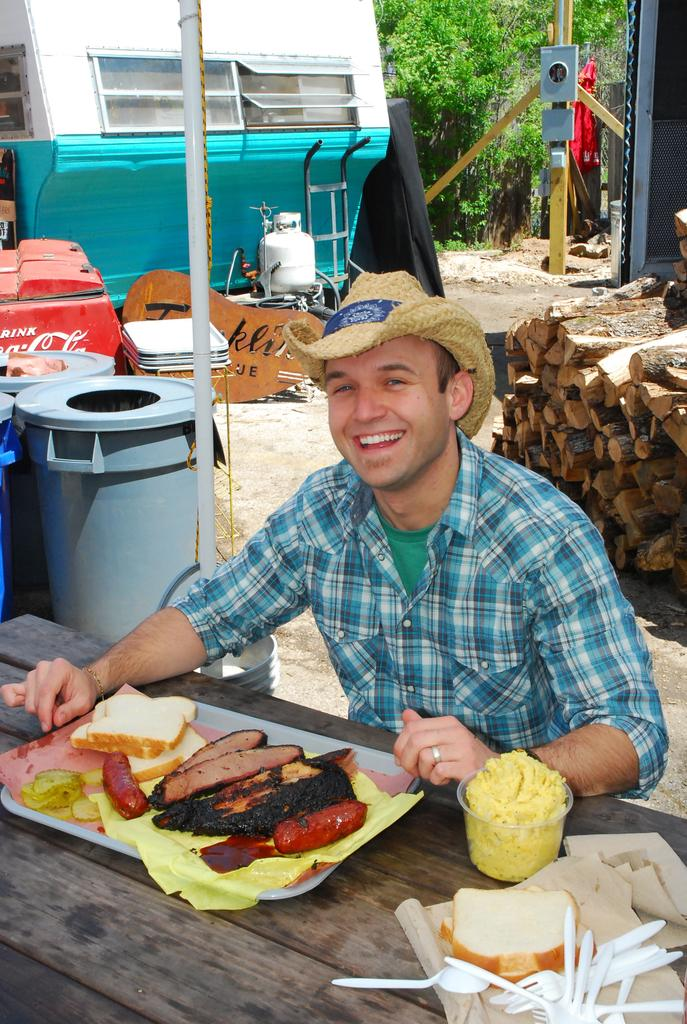Hat: (277, 274, 494, 436)
